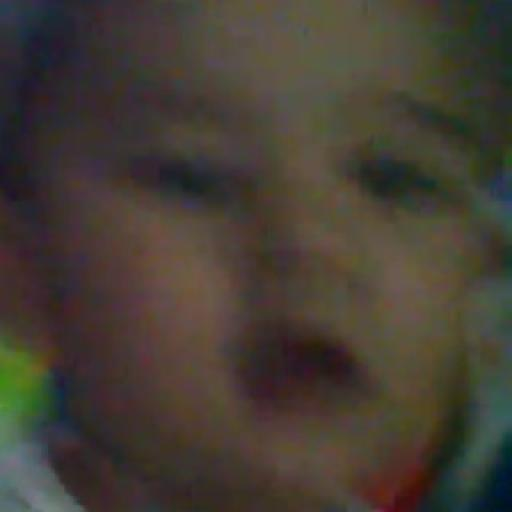Autism: (25, 18, 512, 472)
